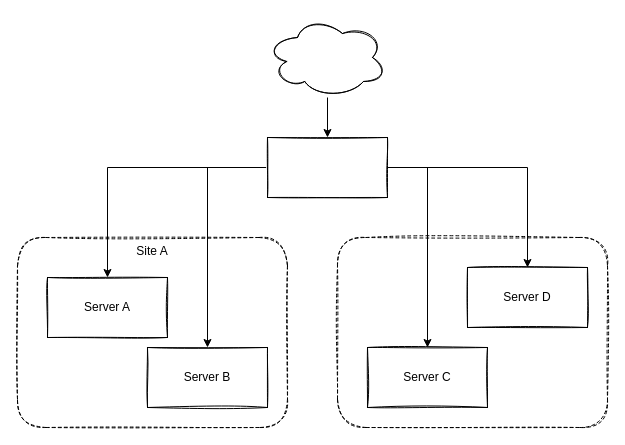
This 625x445 diagram has some shape labels left out. Each missing label, with the box of its shape:
HAproxy: (266, 136, 388, 198)
Site B: (336, 236, 608, 428)
